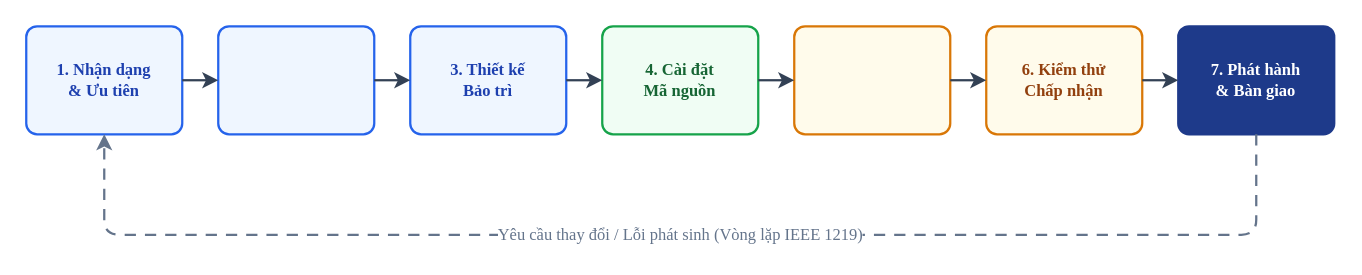
Image size: 1362x275. Some labels were removed from this diagram. The centre of each missing label's shape, as x and y in pixels:
"2. Phân tích & Đặc tả" goes at pixel 295 79.
"5. Kiểm thử Hệ thống" goes at pixel 871 79.
